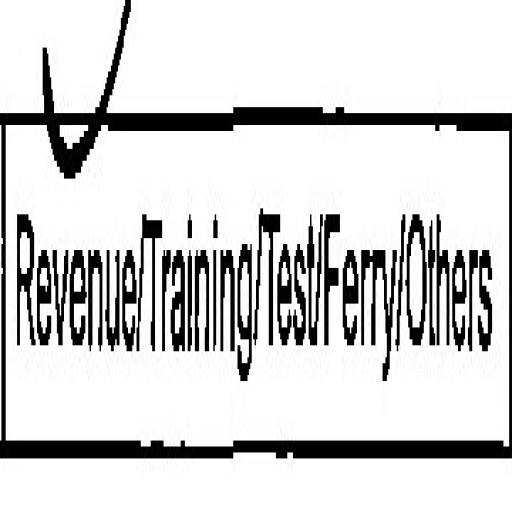check: (0, 0, 139, 512)
